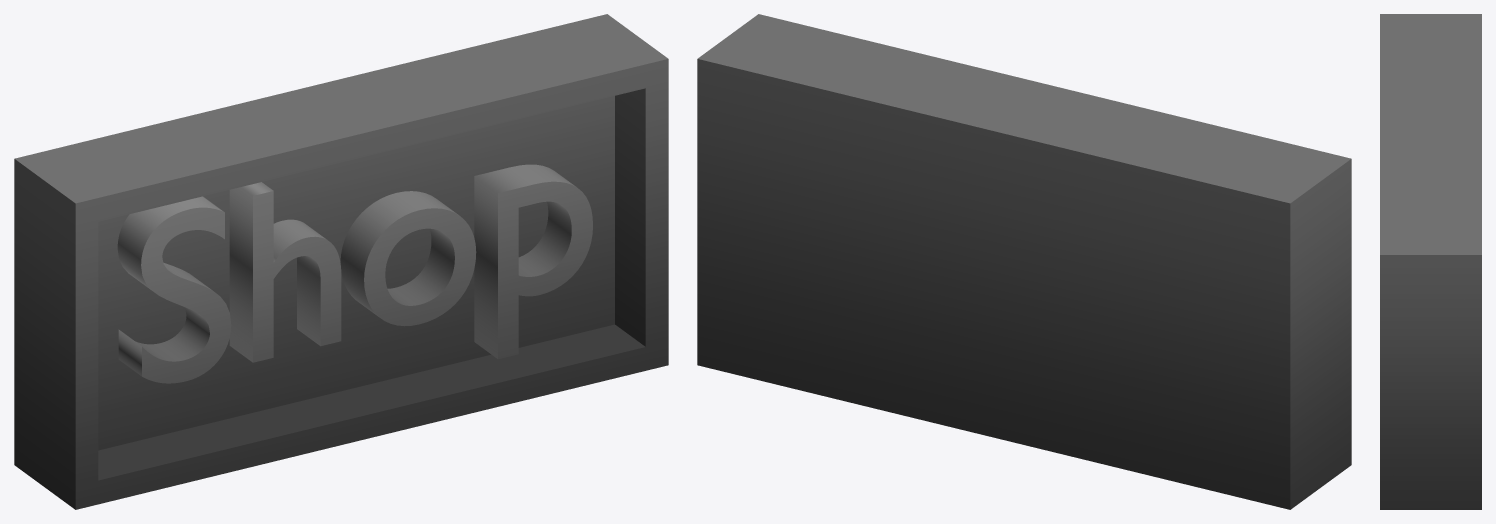
Rendered from Shop_banner.fbx.
The picture shows the model from 3 angles, left to right: view 1: azimuth 30°, elevation 25°; view 2: azimuth 150°, elevation 25°; view 3: azimuth 270°, elevation 25°; orthographic projection. The views are drawn at different scales.
Visible parts, largest first — view 1: Text_02; view 2: Text_02; view 3: Text_02.
Boxes of the visible parts, bbox=[...] form: Text_02: bbox=[14, 14, 668, 509]; Text_02: bbox=[697, 14, 1351, 509]; Text_02: bbox=[1380, 14, 1481, 509].
Bounding box in the file's own units: 220 × 108 × 39.28.
